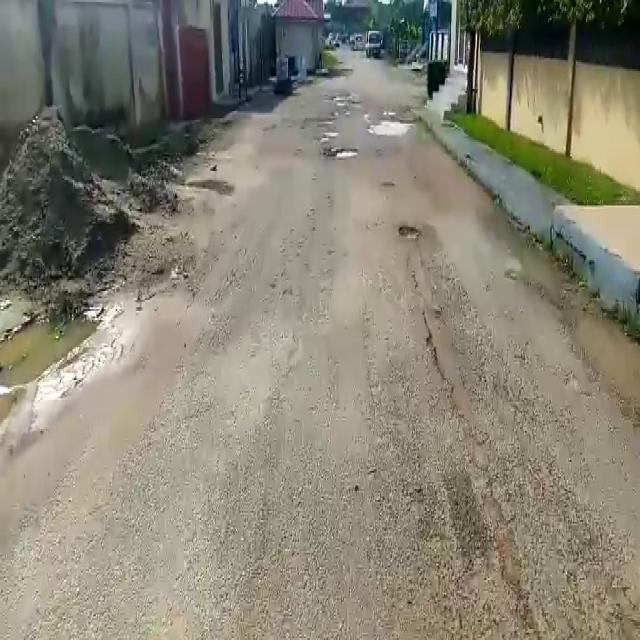pothole: (367, 118, 413, 137), (326, 145, 360, 160), (397, 222, 422, 242)
